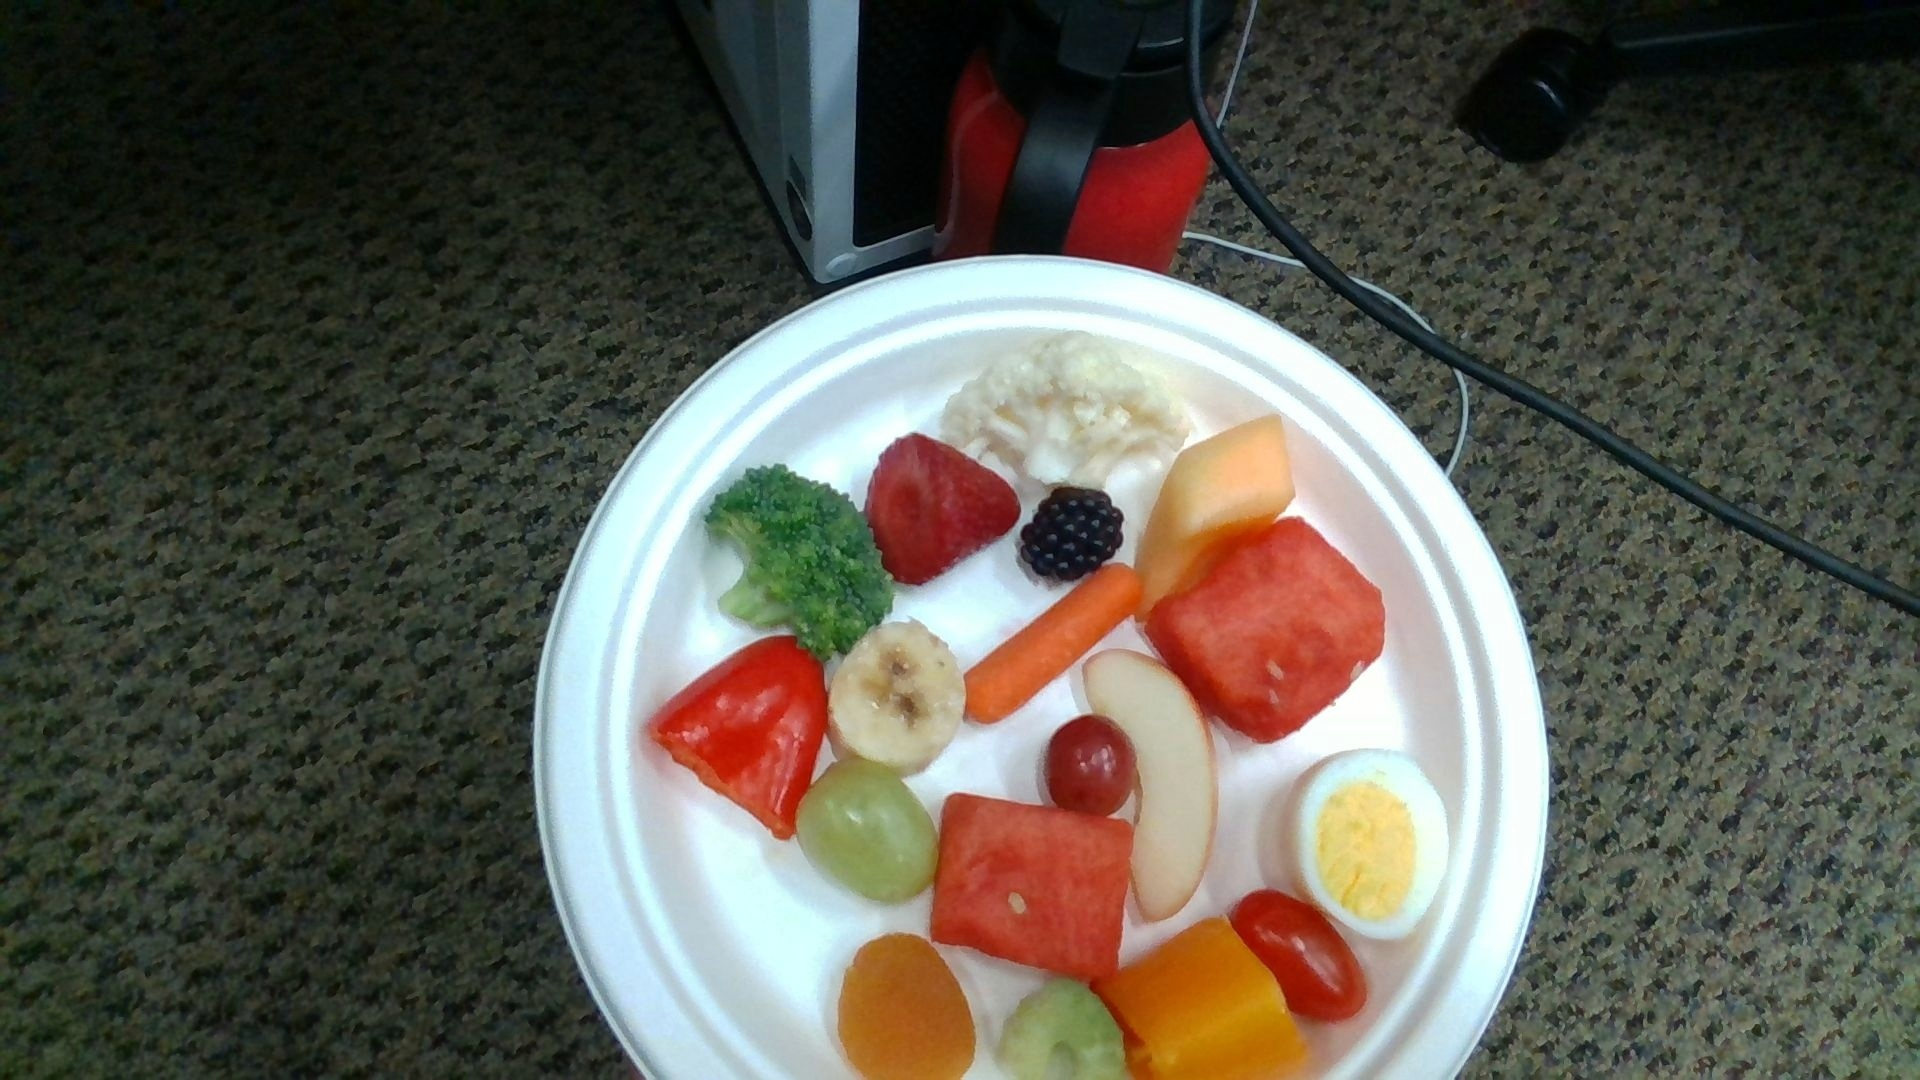apple: (1083, 650, 1217, 920)
apricot: (839, 936, 975, 1080)
banana: (827, 621, 964, 773)
bell_pepper: (655, 636, 829, 837), (1095, 920, 1307, 1080)
blackberry: (1021, 488, 1124, 582)
broccoli: (705, 465, 890, 647)
cantalope: (1137, 415, 1294, 611)
carrot: (965, 568, 1135, 720)
cauliflower: (945, 335, 1187, 483)
celery: (1004, 976, 1125, 1080)
cherry_tomato: (1230, 890, 1369, 1023)
egg: (1287, 752, 1452, 935)
grape_green: (799, 765, 940, 895)
melon: (1147, 516, 1385, 736), (930, 795, 1131, 976)
strawberry: (865, 436, 1019, 583)
